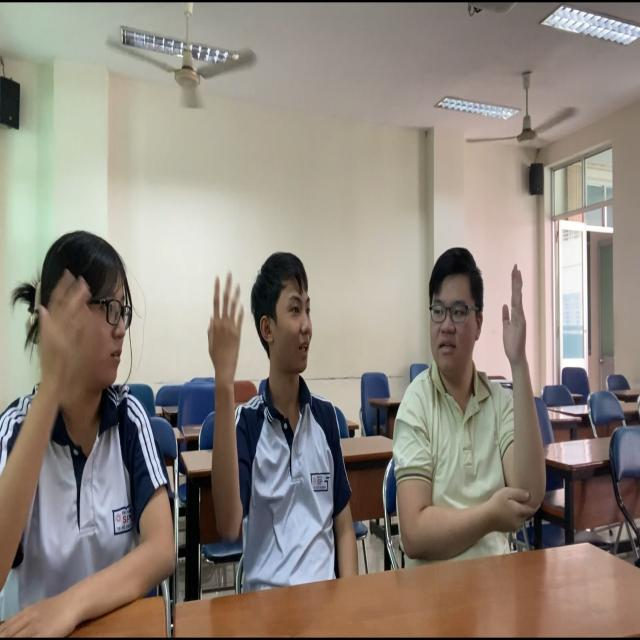raise_hand: (26, 227, 178, 629), (389, 241, 551, 569)
